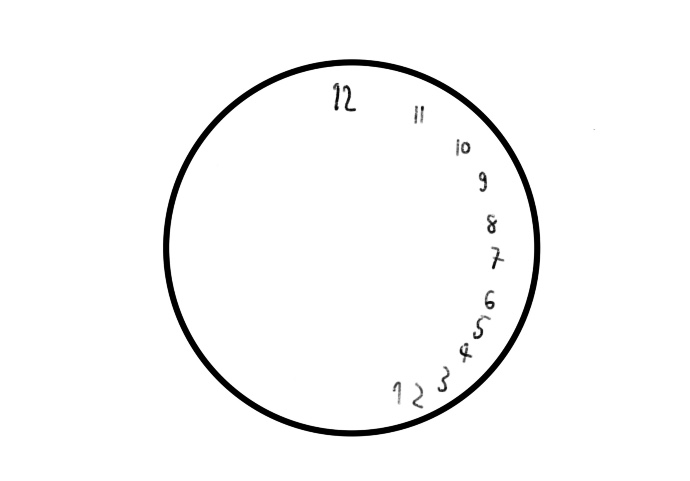eight: (485, 212, 500, 235)
eleven: (413, 96, 427, 125)
five: (472, 311, 494, 342)
four: (459, 340, 472, 368)
nine: (474, 166, 489, 193)
one: (389, 377, 405, 409)
seven: (487, 244, 505, 271)
six: (483, 285, 500, 312)
ten: (451, 133, 472, 156)
three: (436, 365, 453, 393)
twelve: (330, 81, 358, 114)
two: (410, 379, 425, 409)
